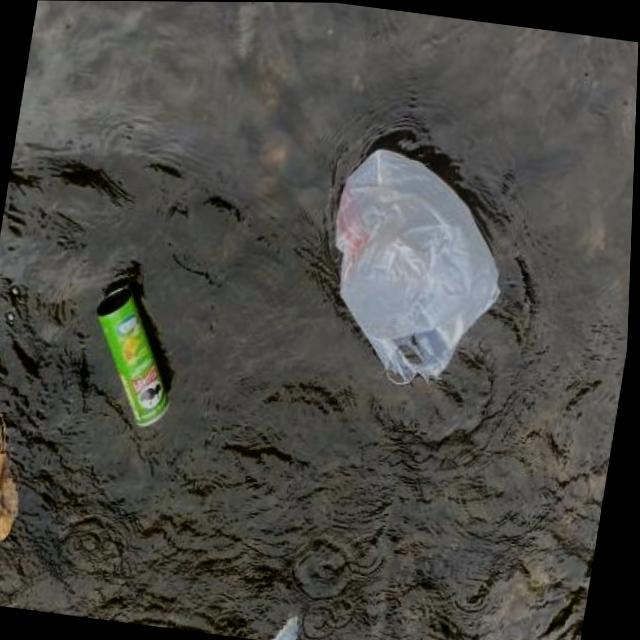Can-Metal: (74, 277, 198, 440)
Paper: (0, 392, 44, 578)
Plastic: (297, 128, 529, 408), (268, 604, 350, 640)
